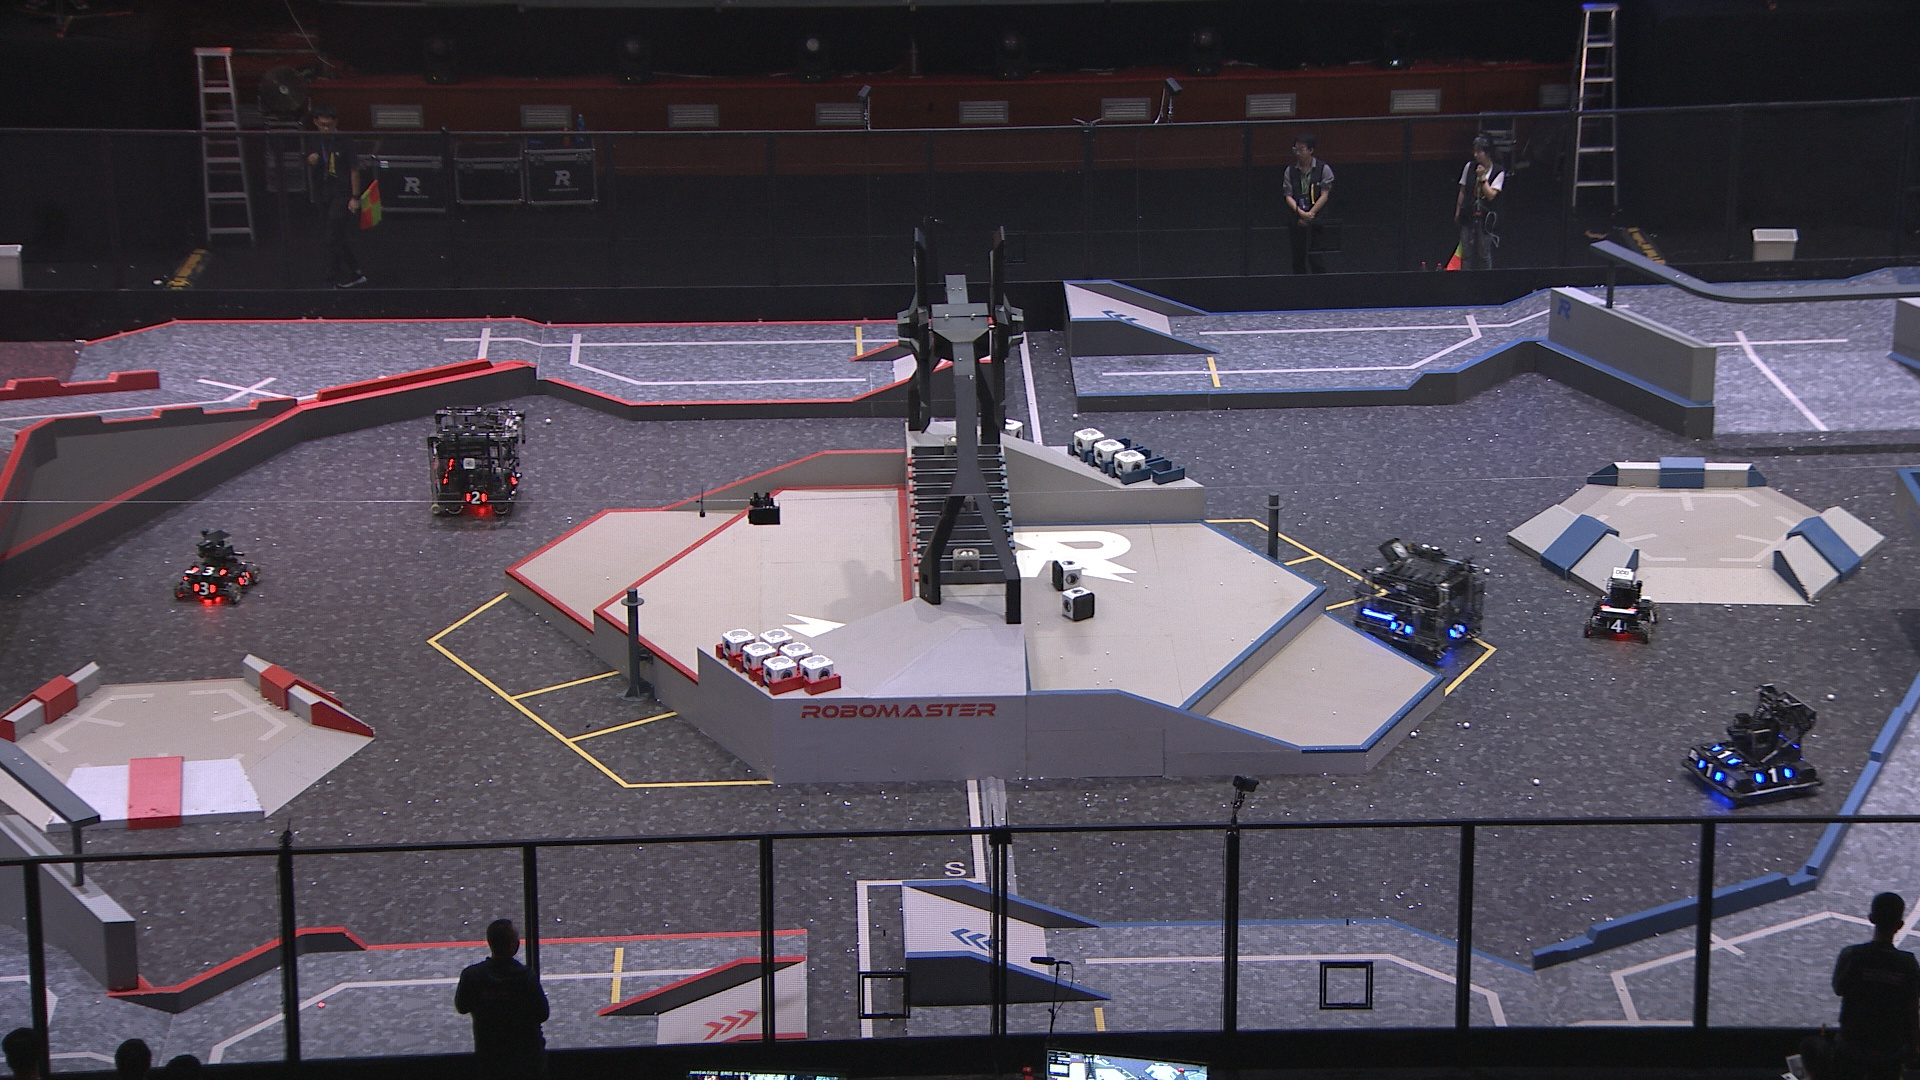armor: (1755, 765, 1793, 787), (1695, 761, 1727, 785), (191, 580, 219, 599), (1712, 746, 1738, 765), (1387, 621, 1415, 638), (191, 564, 229, 576), (1605, 618, 1631, 636), (463, 491, 491, 506), (1447, 622, 1466, 642), (237, 571, 255, 589), (510, 471, 522, 488), (1646, 608, 1658, 622)
car: (1683, 680, 1832, 803), (1346, 541, 1487, 669), (419, 404, 538, 524), (1582, 567, 1665, 650), (174, 529, 264, 604)
